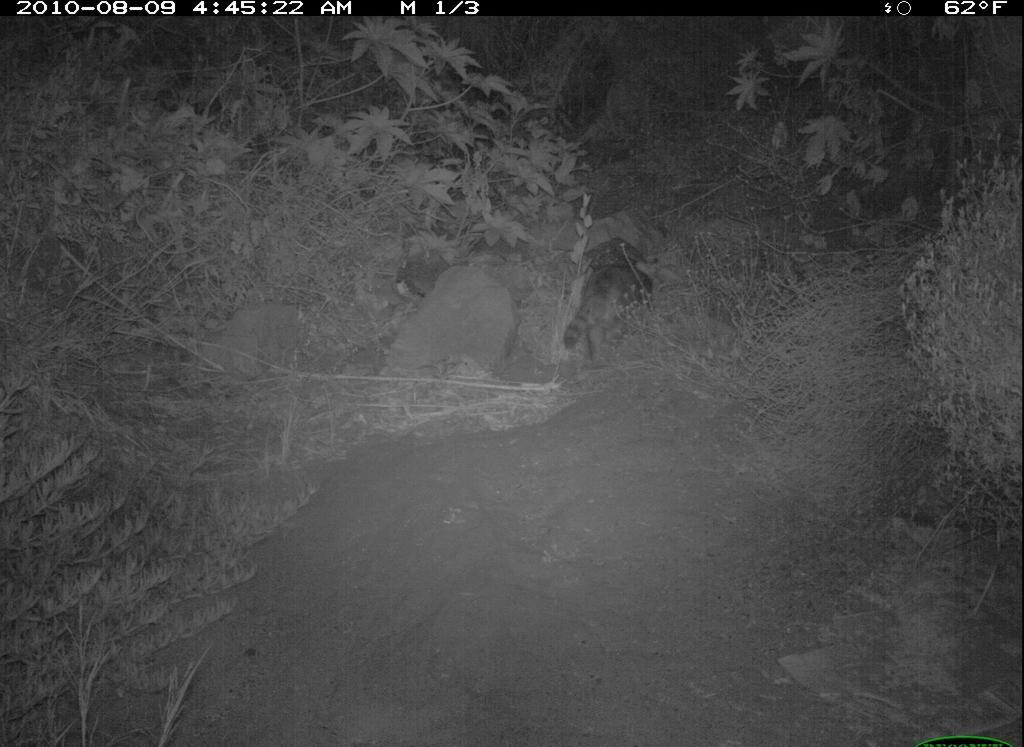raccoon: (561, 242, 657, 374)
